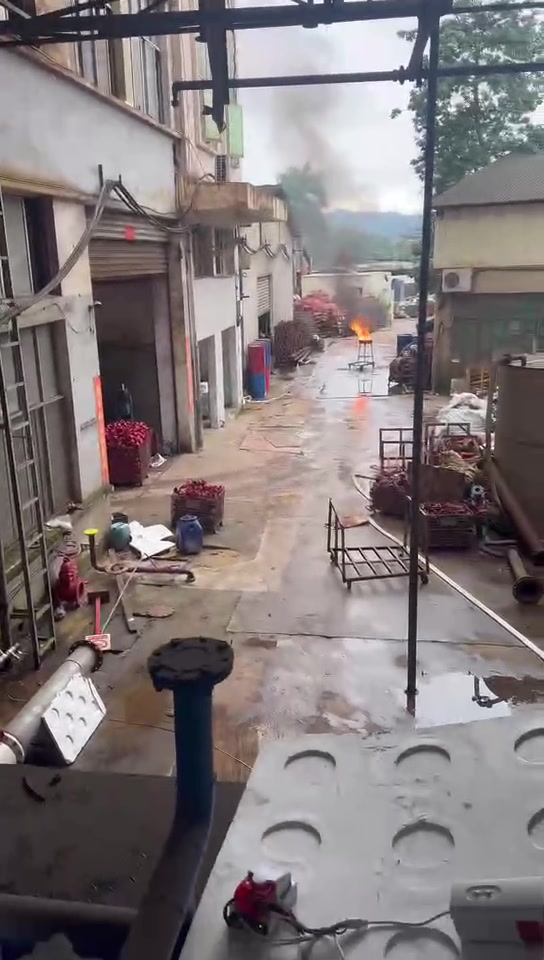fire: (349, 318, 369, 340)
